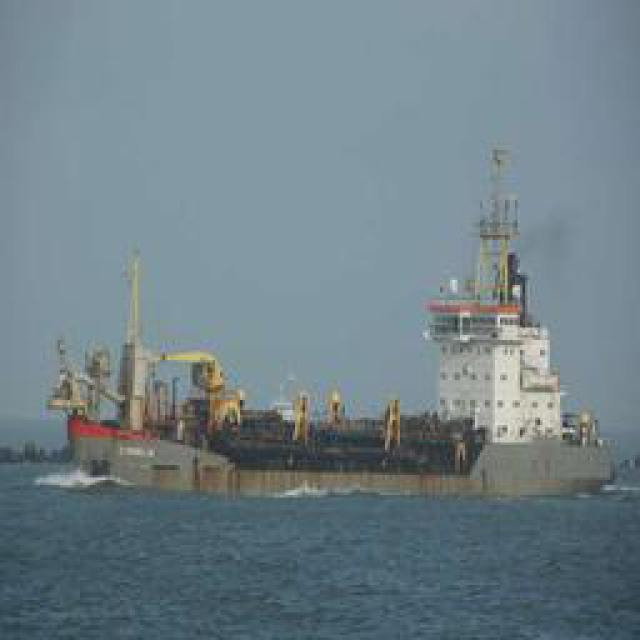Ship: (79, 155, 602, 495)
